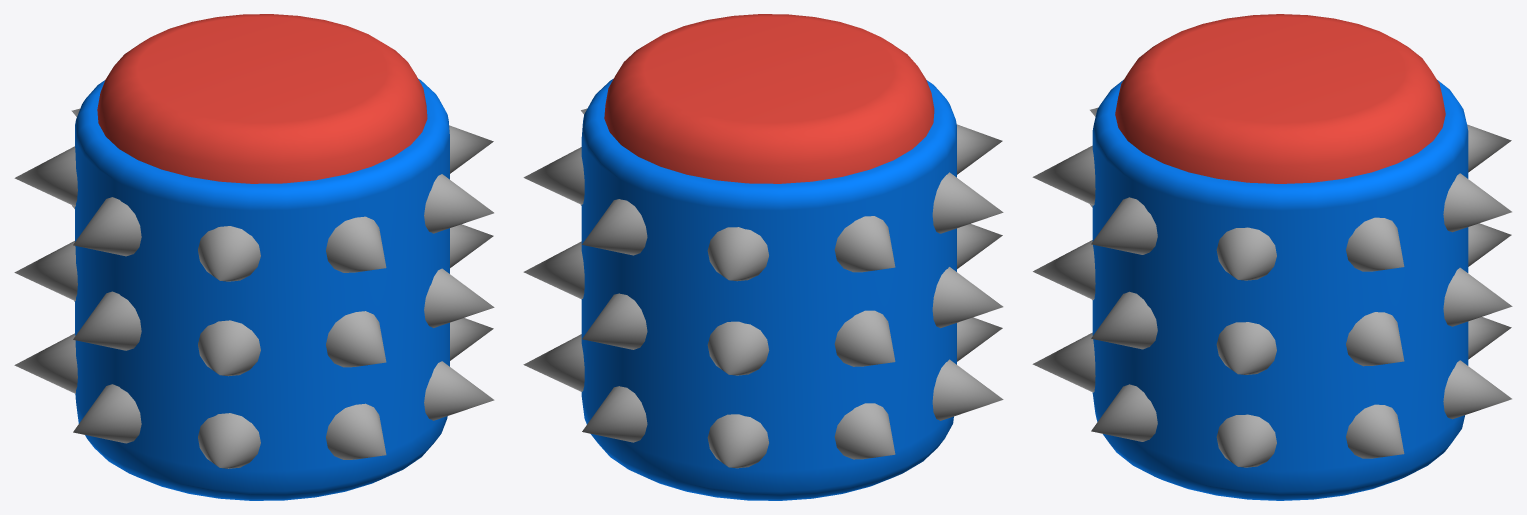
File: obstacle_01.fbx
The picture shows the model from 3 angles, left to right: view 1: azimuth 30°, elevation 25°; view 2: azimuth 150°, elevation 25°; view 3: azimuth 270°, elevation 25°; orthographic projection.
Visible parts, largest first — view 1: obstacle_01; view 2: obstacle_01; view 3: obstacle_01.
Part boxes in pixels (x1,y1,x2,y2): obstacle_01: (14,14,494,500); obstacle_01: (523,14,1003,500); obstacle_01: (1032,14,1512,500).
Size of the model in its own units: 295 by 242 by 290.
